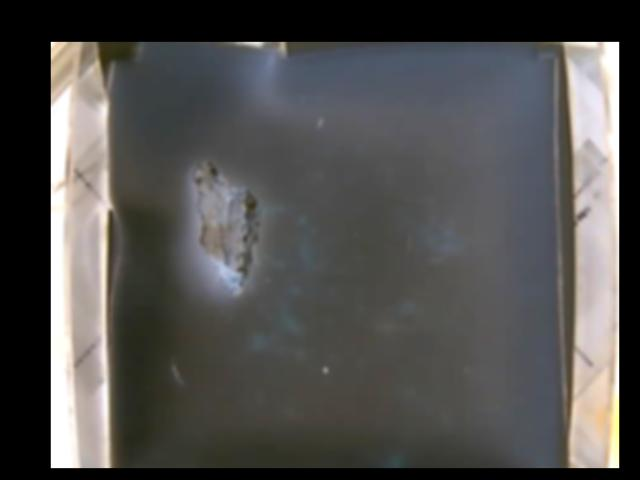Brisk: (192, 161, 257, 295)
